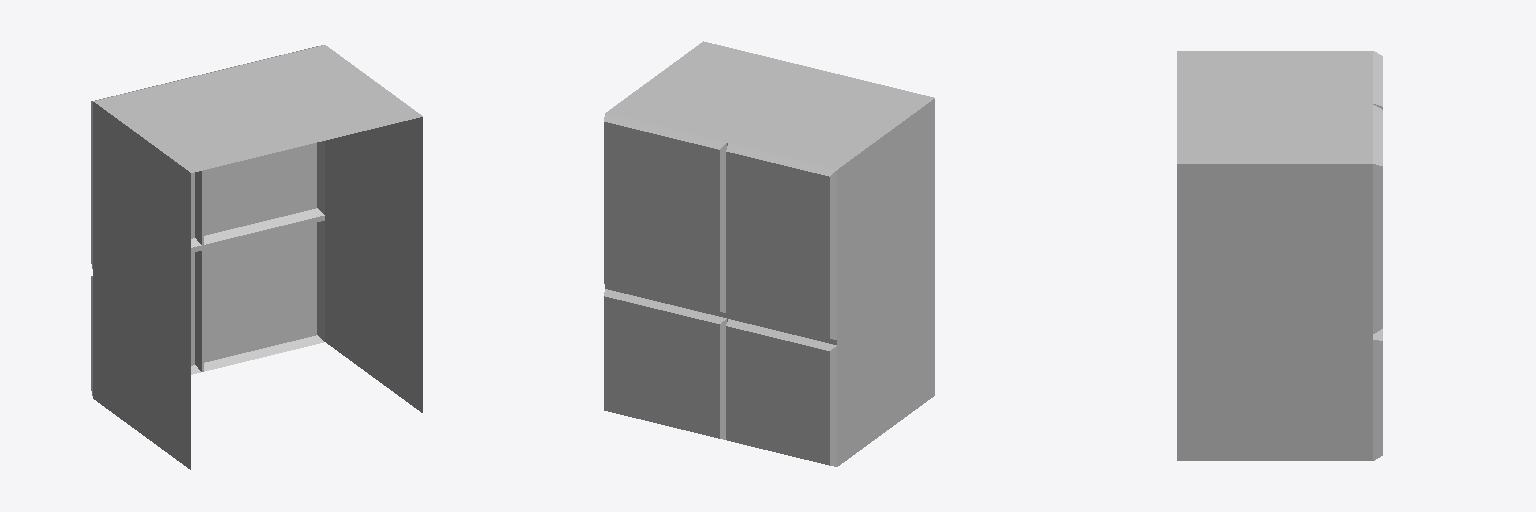
File: fridge.obj
The picture shows the model from 3 angles: view 1: azimuth 30°, elevation 25°; view 2: azimuth 150°, elevation 25°; view 3: azimuth 270°, elevation 25°; orthographic projection.
Visible parts, largest first — view 1: polySurface268 polySurface264; view 2: polySurface268 polySurface264; view 3: polySurface268 polySurface264.
Part boxes in pixels (left/top/right/bottom): polySurface268 polySurface264: left=91, top=45, right=422, bottom=469; polySurface268 polySurface264: left=604, top=41, right=934, bottom=466; polySurface268 polySurface264: left=1177, top=51, right=1382, bottom=460.
Bounding box in the file's own units: 9.27 × 11.36 × 7.12.